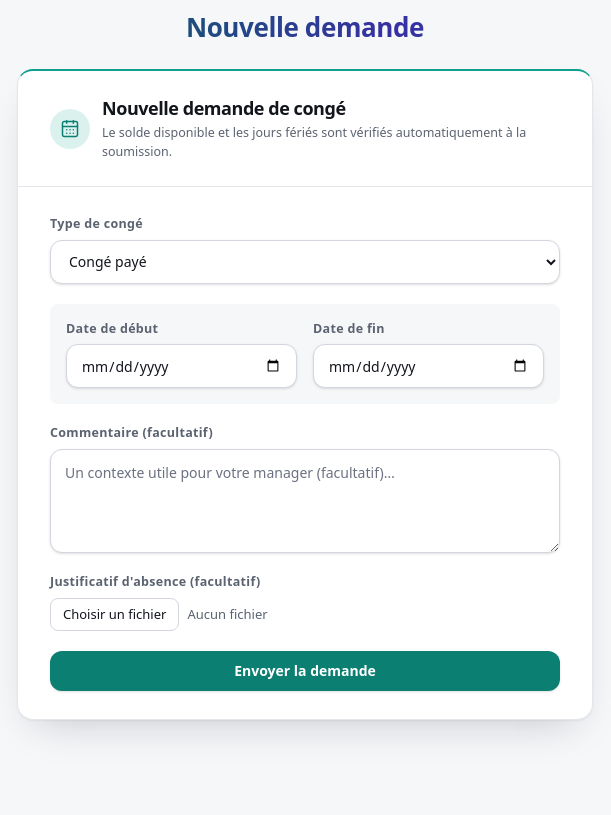
it: NouvelleDemandePage › affiche une erreur si la date de fin precede la date de debut, sans soumettre
The image size is (611, 815).
In the date field labelled "Date de début": (182,366) [66,344,297,388], type "2026-10-10"
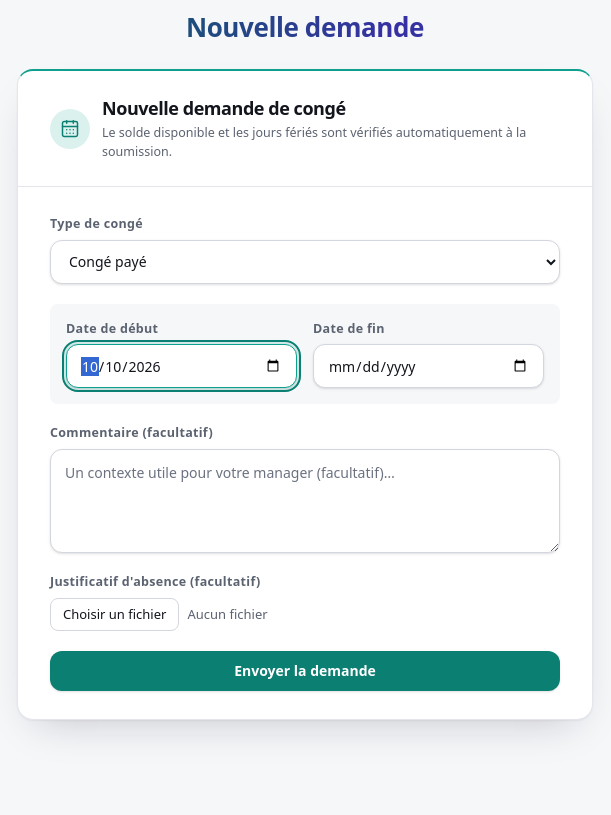
In the date field labelled "Date de fin": (428,366) [313,344,544,388], type "2026-10-05"
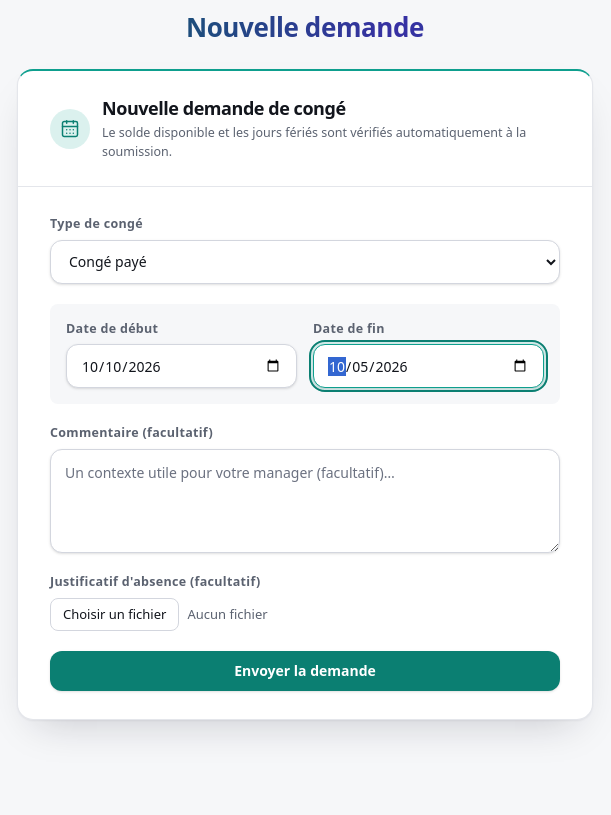
Click the button "Envoyer la demande": (305,671) [50,651,560,691]
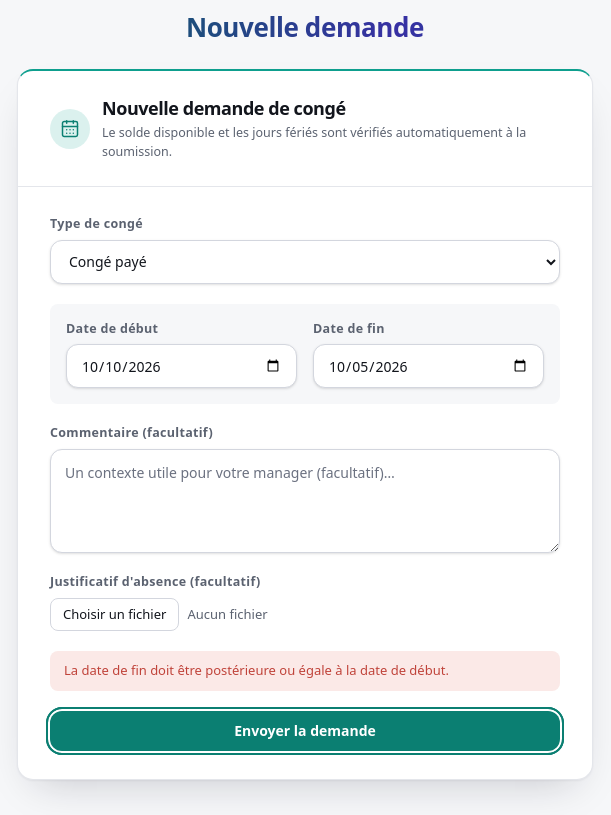
expect the text "La date de fin doit être postérieure ou égale à la date de début." is shown: met, box [50,651,560,691]
